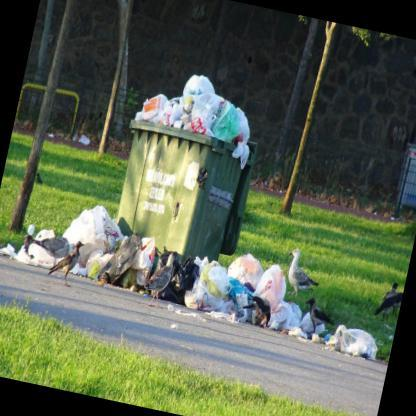Garbage: (62, 195, 125, 261), (191, 92, 243, 144), (180, 260, 228, 316), (103, 228, 139, 297), (213, 271, 252, 332), (222, 104, 258, 168), (126, 226, 162, 286), (326, 323, 381, 360), (222, 249, 264, 290), (170, 247, 200, 304), (68, 198, 108, 240), (180, 71, 219, 111), (269, 296, 302, 338), (257, 257, 290, 294), (142, 87, 172, 121), (154, 103, 186, 126), (190, 253, 212, 284), (0, 234, 18, 261), (287, 327, 304, 345), (316, 333, 330, 353)
